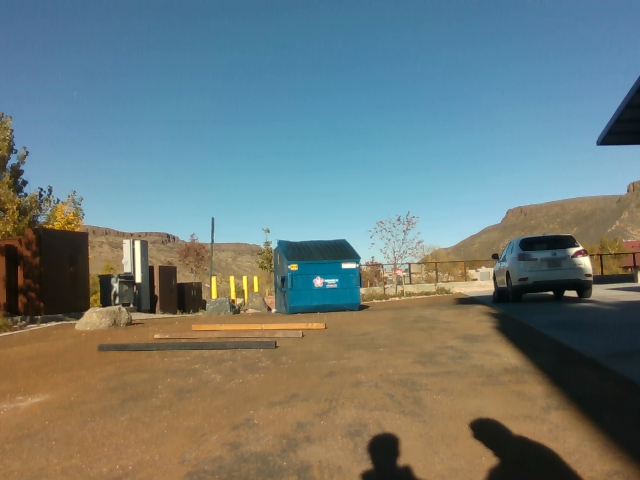Dunnage: (91, 316, 339, 359)
